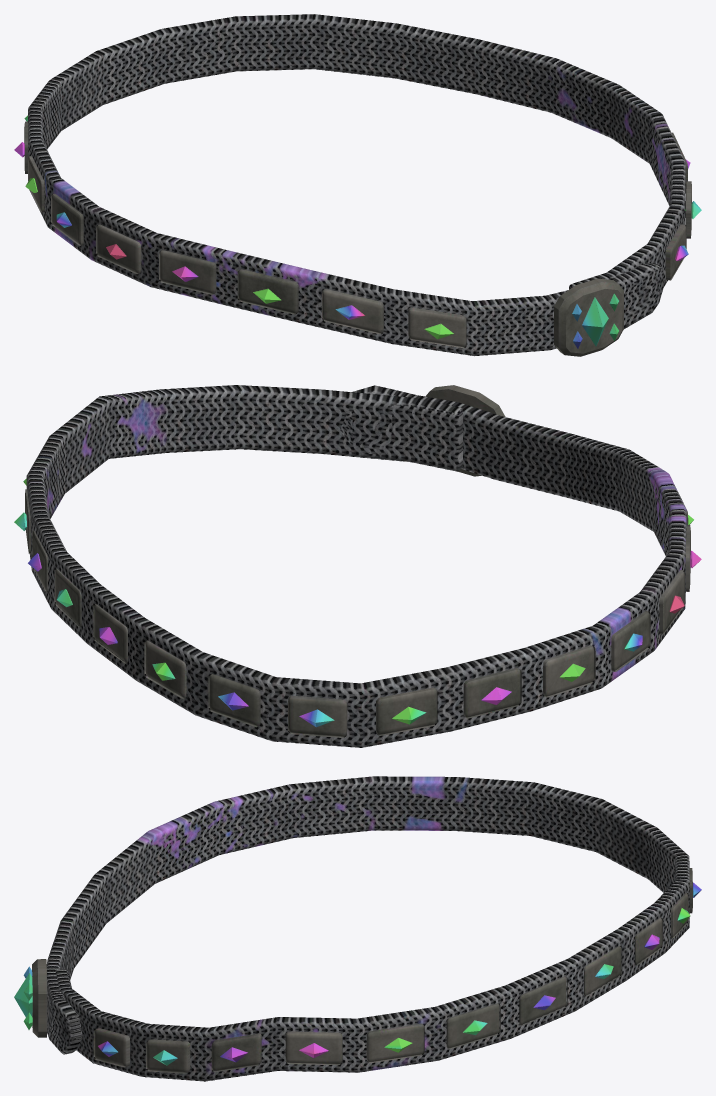
Rendered from ornate_belt.glb.
3 views of the same model, one above another, from view 1: azimuth 30°, elevation 25°; view 2: azimuth 150°, elevation 25°; view 3: azimuth 270°, elevation 25° (orthographic). The views are drawn at different scales.
Visible parts, largest first — view 1: belt_buckle_hard.008; view 2: belt_buckle_hard.008; view 3: belt_buckle_hard.008.
Part boxes in pixels (x1=…): belt_buckle_hard.008: x1=14, y1=14, x2=701, y2=356; belt_buckle_hard.008: x1=14, y1=385, x2=701, y2=747; belt_buckle_hard.008: x1=14, y1=776, x2=701, y2=1081.
Bounding box in the file's own units: 0.221 × 0.0444 × 0.2448.
1 material, 1 textured.
